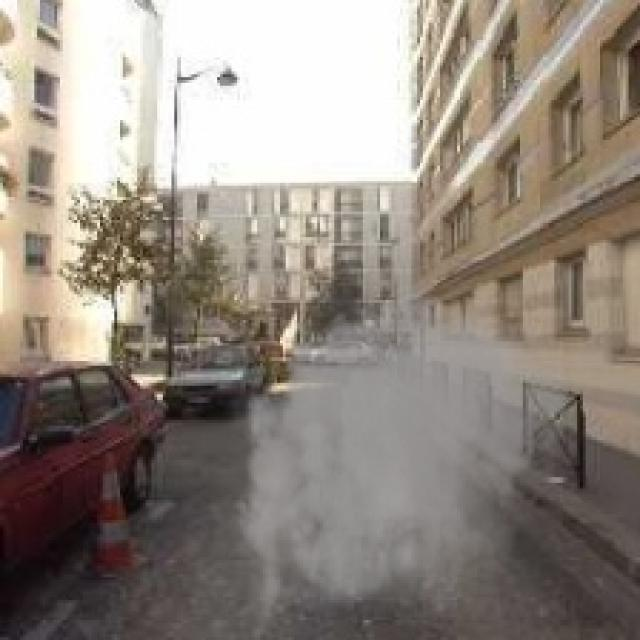Smoke: (220, 268, 583, 638)
